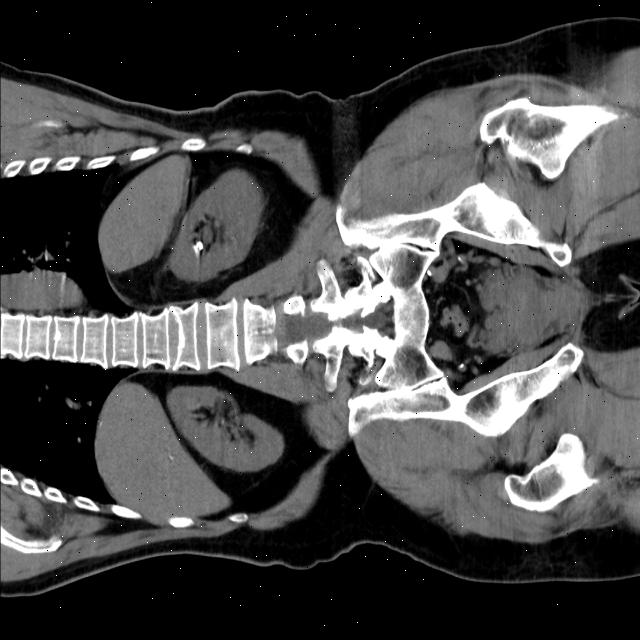kidneystone: (192, 231, 204, 257)
